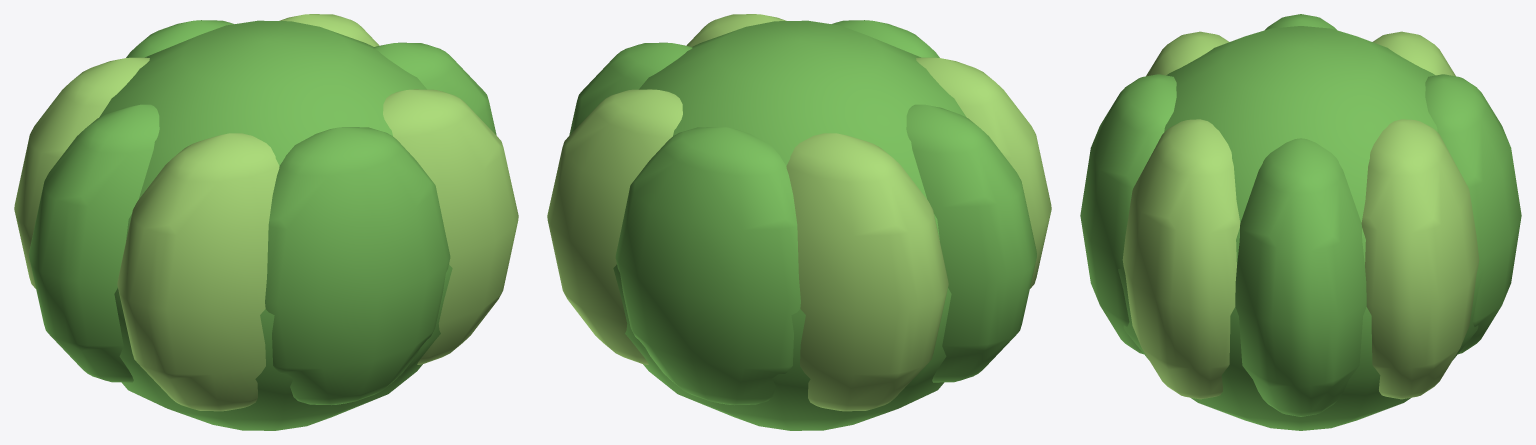
File: VegetableRaw.fbx
3 views of the same model, side by side, from view 1: azimuth 30°, elevation 25°; view 2: azimuth 150°, elevation 25°; view 3: azimuth 270°, elevation 25° (orthographic). The views are drawn at different scales.
Visible parts, largest first — view 1: Leaf_06, CabbageCore, Leaf_05, Leaf_04, Leaf_07, Leaf_03, Leaf_00, Leaf_02, Leaf_01; view 2: Leaf_02, CabbageCore, Leaf_03, Leaf_04, Leaf_01, Leaf_05, Leaf_00, Leaf_06, Leaf_07; view 3: CabbageCore, Leaf_00, Leaf_01, Leaf_07, Leaf_02, Leaf_06, Leaf_03, Leaf_05, Leaf_04.
Part boxes in pixels (<box>): Leaf_06: <box>265,127,450,405</box>; CabbageCore: <box>99,20,452,430</box>; Leaf_05: <box>117,133,279,411</box>; Leaf_04: <box>29,104,159,382</box>; Leaf_07: <box>383,89,518,364</box>; Leaf_03: <box>14,57,149,288</box>; Leaf_00: <box>373,42,496,135</box>; Leaf_02: <box>126,20,234,57</box>; Leaf_01: <box>279,14,379,46</box>; Leaf_02: <box>615,127,800,405</box>; CabbageCore: <box>613,20,966,430</box>; Leaf_03: <box>786,133,948,411</box>; Leaf_04: <box>906,104,1036,382</box>; Leaf_01: <box>547,89,682,364</box>; Leaf_05: <box>916,57,1051,288</box>; Leaf_00: <box>569,42,692,135</box>; Leaf_06: <box>831,20,939,57</box>; Leaf_07: <box>686,14,786,46</box>; CabbageCore: <box>1118,26,1483,430</box>; Leaf_00: <box>1235,138,1366,416</box>; Leaf_01: <box>1361,119,1479,399</box>; Leaf_07: <box>1122,119,1240,399</box>; Leaf_02: <box>1425,74,1521,354</box>; Leaf_06: <box>1080,74,1176,354</box>; Leaf_03: <box>1372,31,1455,76</box>; Leaf_05: <box>1146,31,1229,76</box>; Leaf_04: <box>1265,14,1336,30</box>.
Bounding box in the file's own units: 0.7332 × 0.56 × 0.62.
